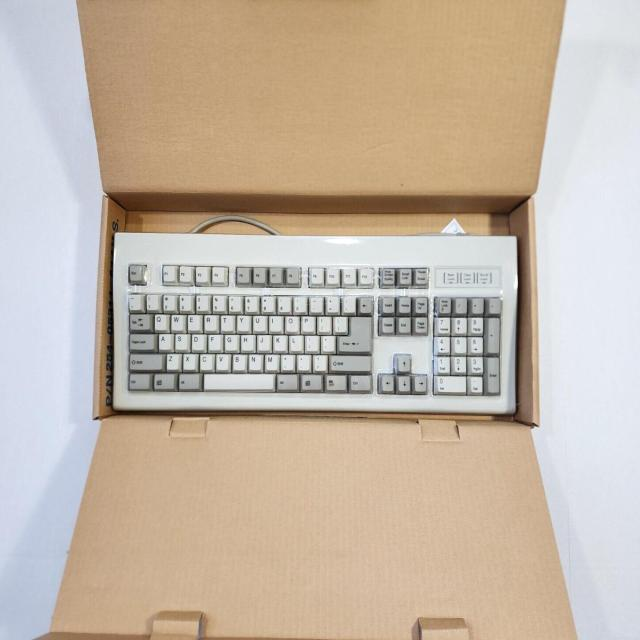keyboard: (110, 234, 519, 411)
